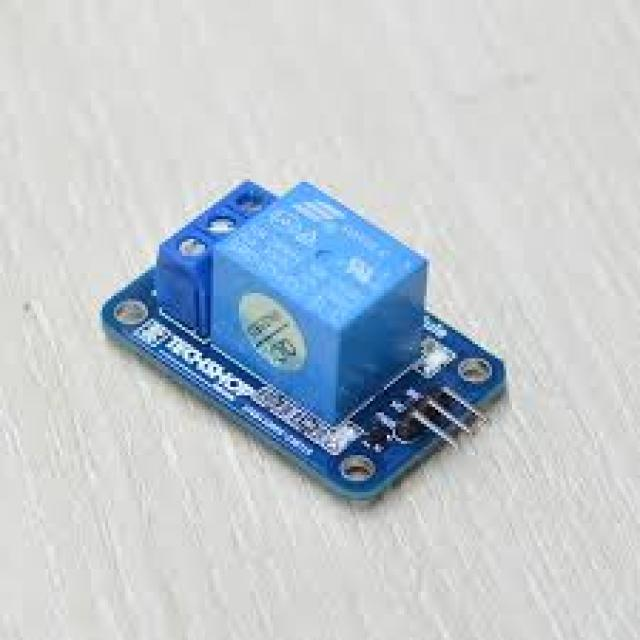Relay: (105, 182, 509, 503)
